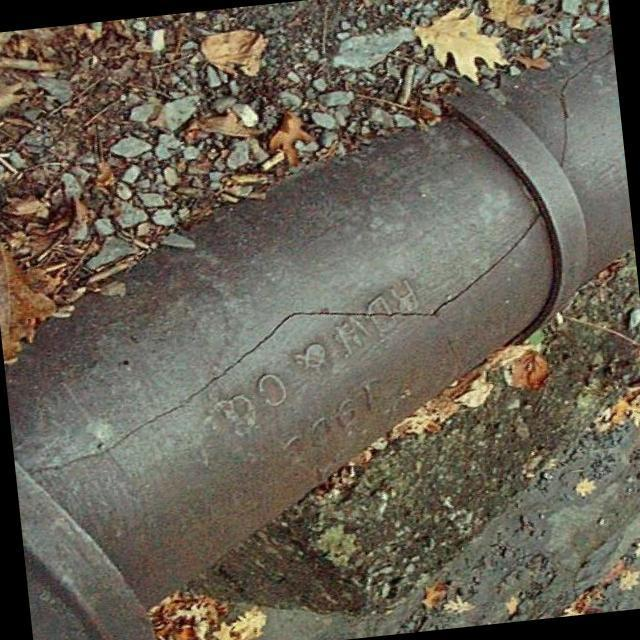defect: (20, 211, 541, 477), (553, 44, 611, 171)
